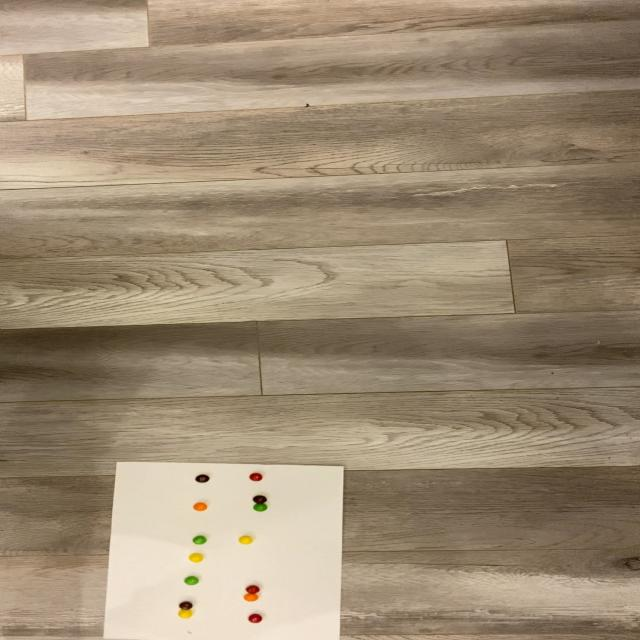smartie: (187, 553, 203, 563), (252, 495, 267, 505), (184, 575, 199, 585), (238, 536, 254, 545), (179, 601, 193, 611), (179, 608, 193, 618), (193, 502, 208, 511), (253, 503, 268, 512), (243, 594, 258, 603), (247, 614, 262, 623), (248, 472, 262, 481), (193, 535, 207, 544), (246, 586, 261, 594), (196, 475, 210, 483)
